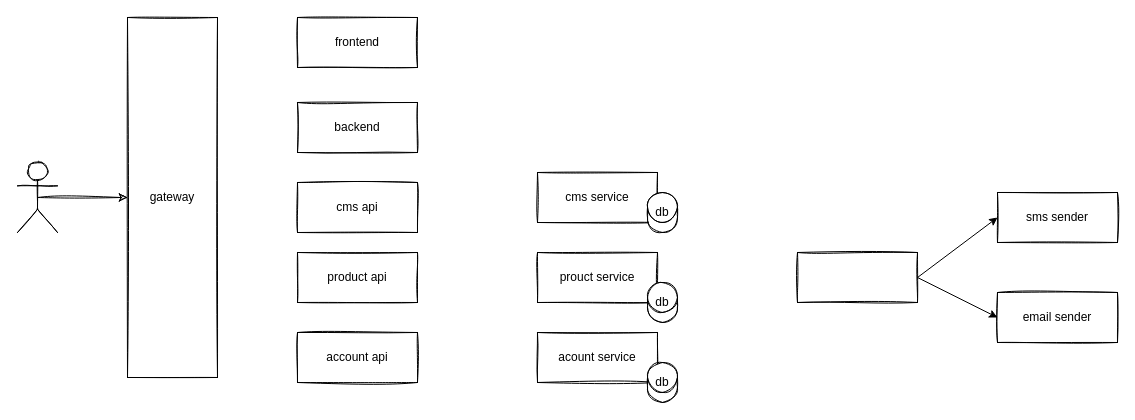
This 1135x420 diagram has some shape labels left out. The shapes that lost their labels are listed below. From the top down, each one's centre as x and y in pixels, then its label:
(37,197): Actor
(857,277): bot service
